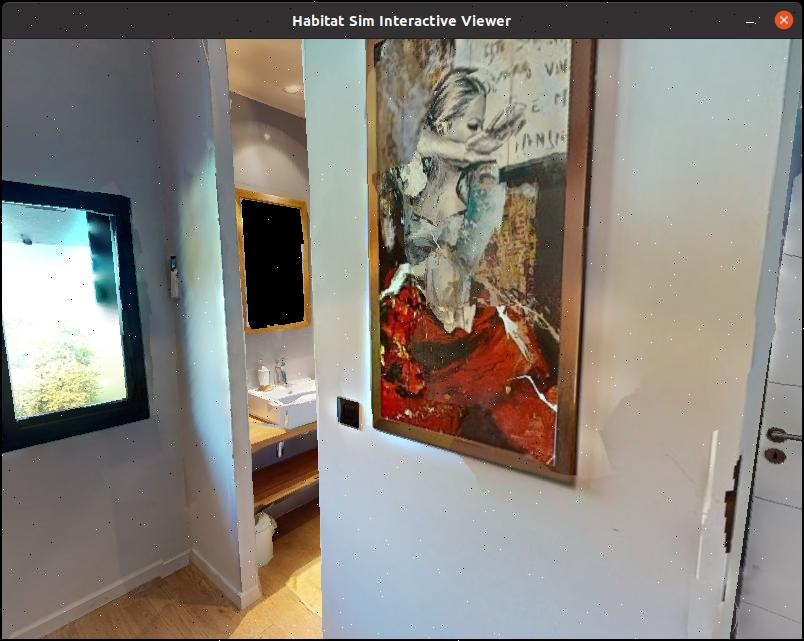door-frame: (203, 45, 384, 639)
sink: (237, 343, 321, 438)
